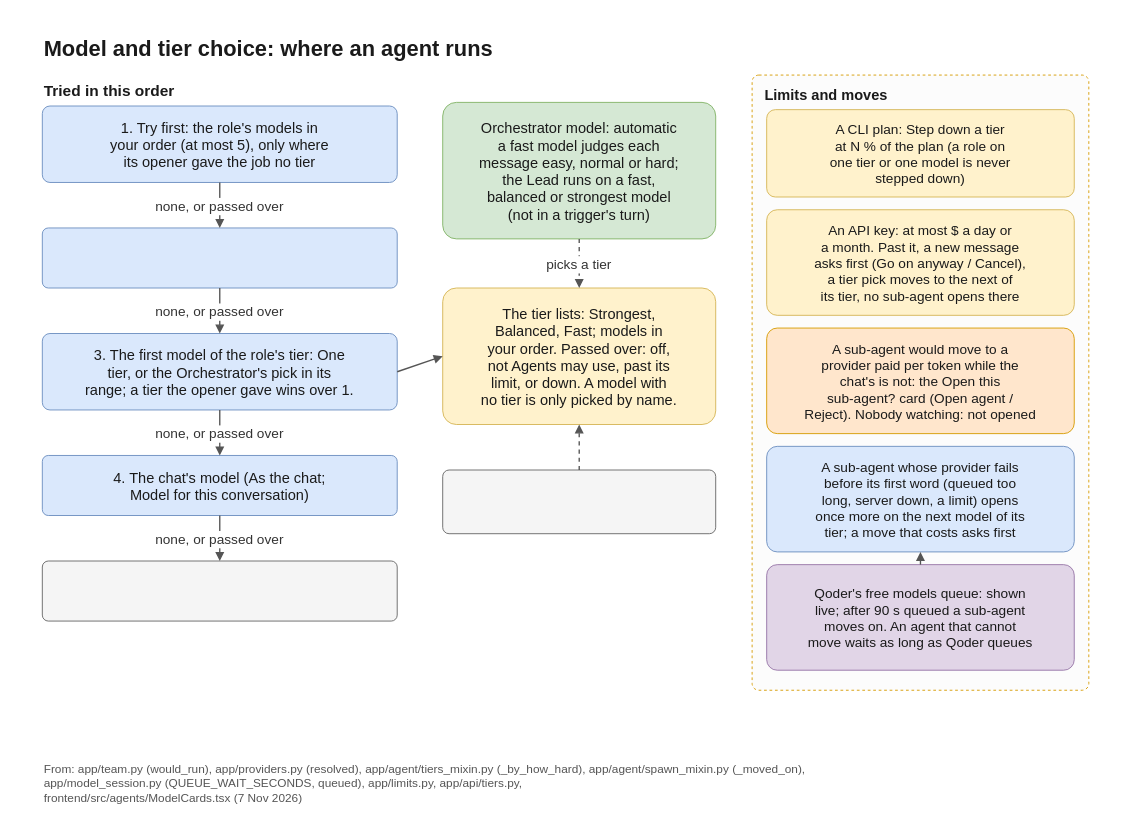
This 1122x831 diagram has some shape labels left out. The shapes that lost their labels are listed below. From the top down, each one's centre as x and y in pixels, then its label:
At pixel 219 257: "2. The role's own model (Who picks it? One model)".
At pixel 579 501: "An agent may call a job easy or hard: one tier down or up".
At pixel 219 590: "5. The default provider (the first one in the list)".
